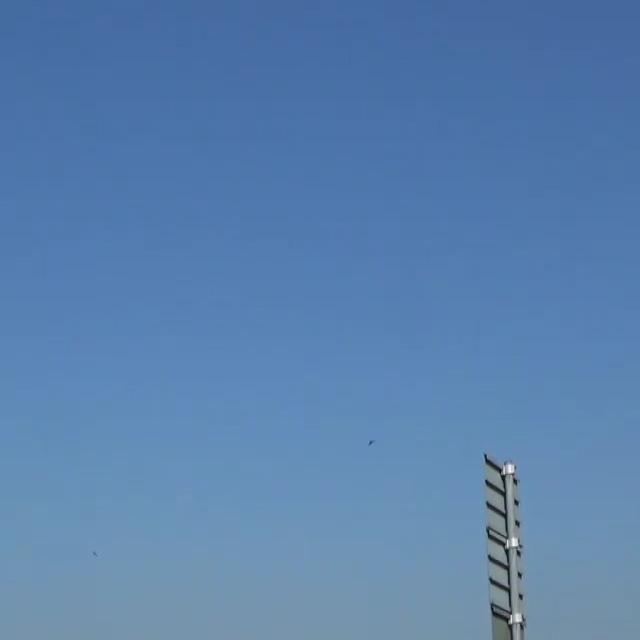bird: (362, 432, 380, 448)
